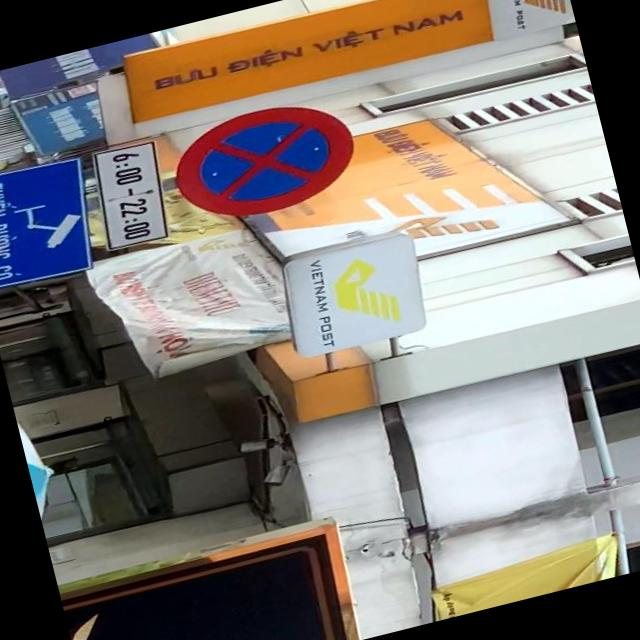P-130: (165, 90, 364, 230)
